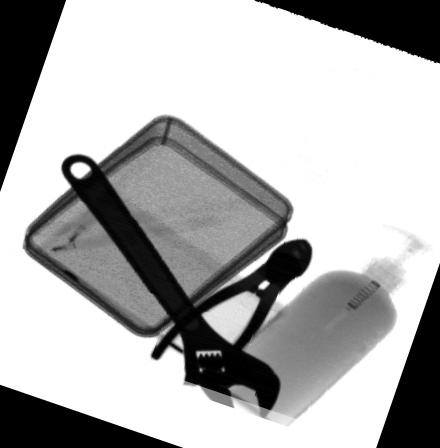Pliers: (151, 235, 315, 390)
Wrench: (58, 152, 283, 422)
